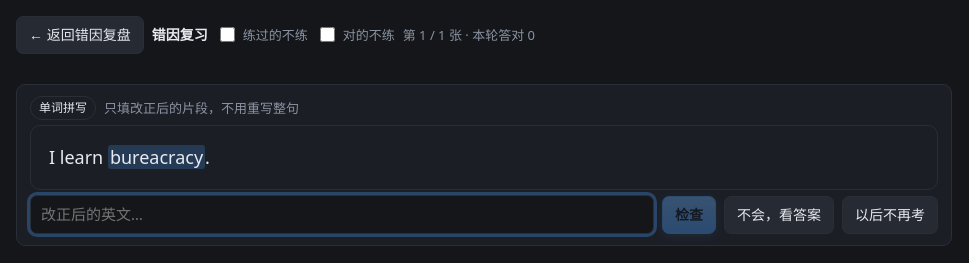
GoldenErrorReview › 可以暂停当前错因，不再进队列
Click the button "以后不再考": (890, 215) [842,196,938,234]
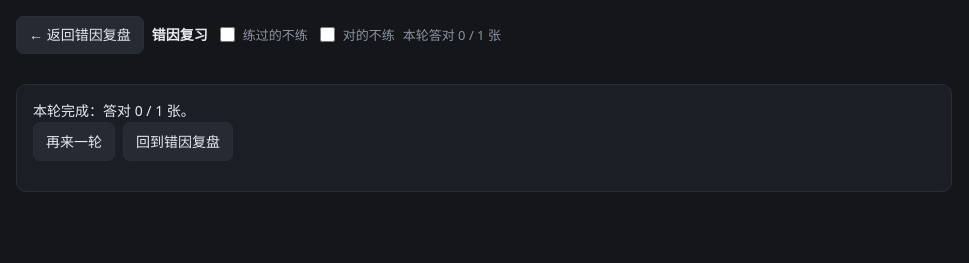
Expected: the text "本轮完成：答对 0 / 1 张。 再来一轮 回到错因复盘" is shown, [16,84,952,192]
